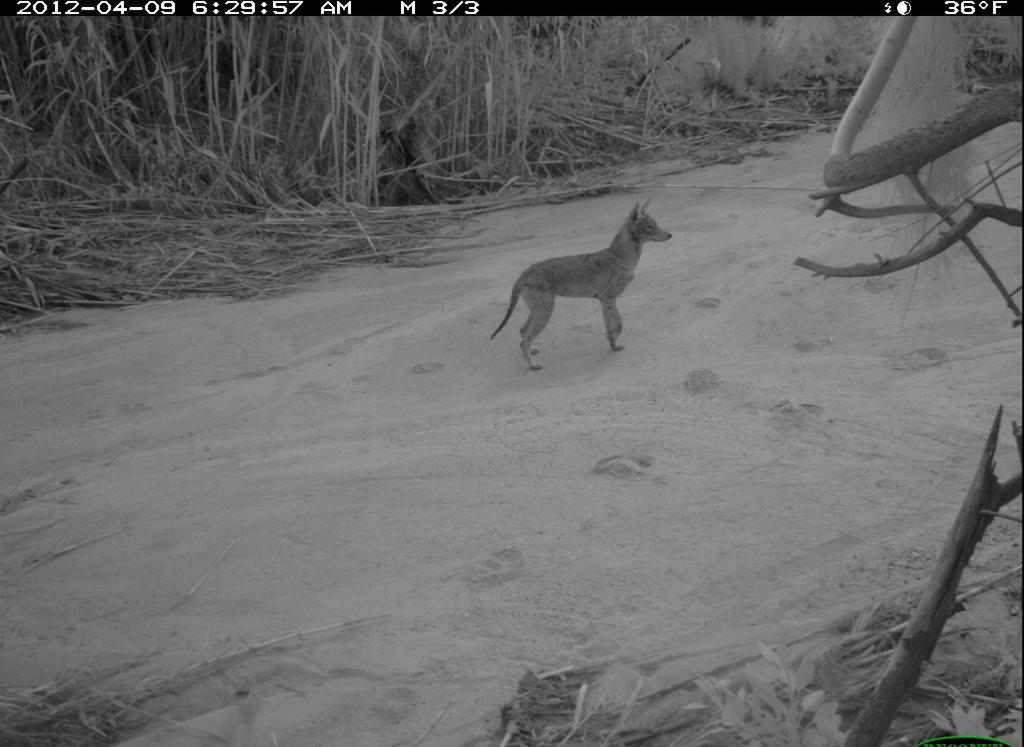coyote: (489, 195, 671, 376)
